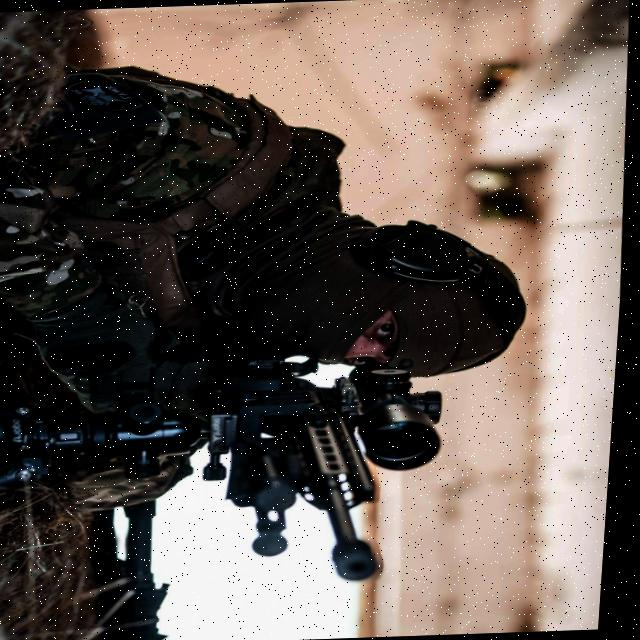firearm: (198, 350, 459, 585)
